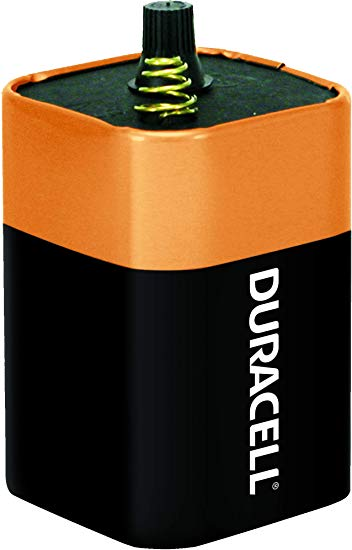6V: (11, 6, 347, 544)
